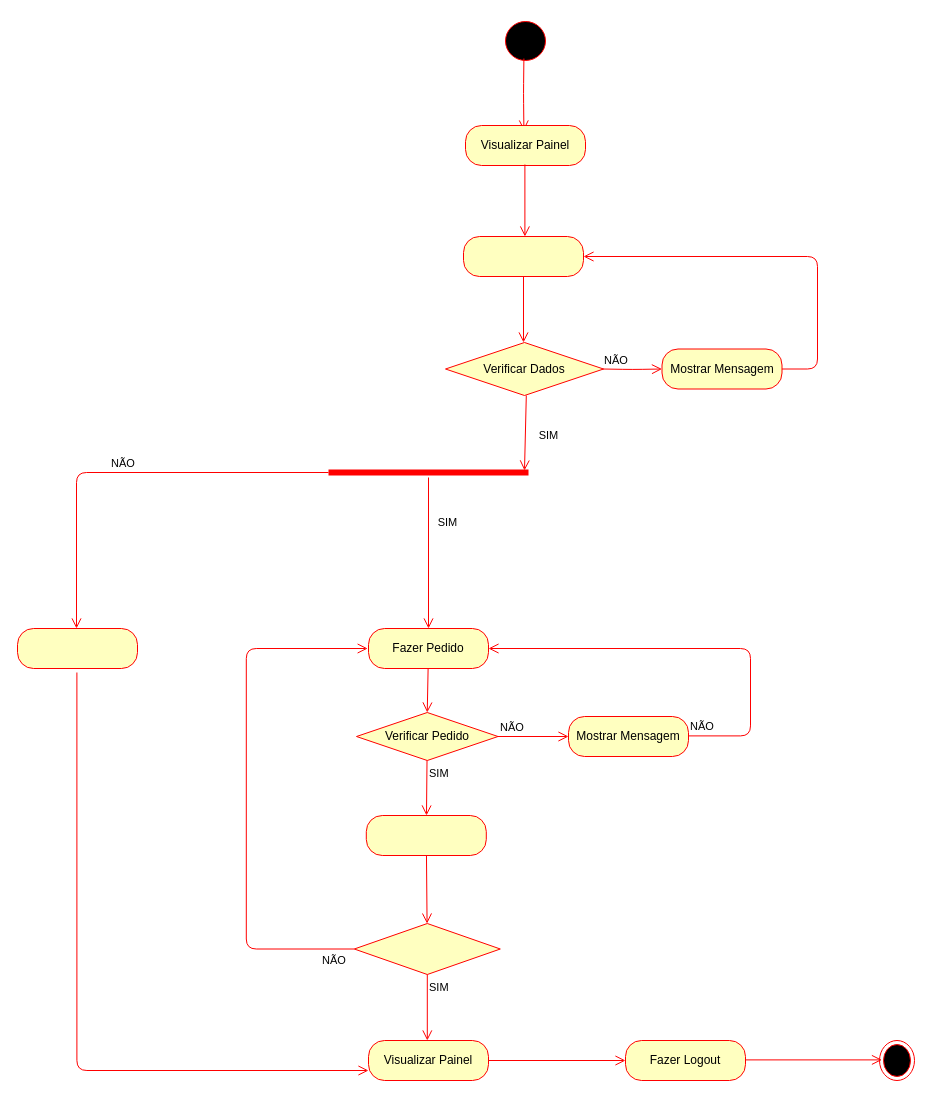
Some shapes in this 932 by 1098 pixel diagram are drawn without their labels. Each missing label, with the centre of its shape:
Cancelar Pedido: (77,648)
Enviar Pedido: (426,948)
Fazer Login: (523,256)
Mostrar Pedido: (425,835)
